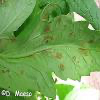Tomato mold leaf: (4, 12, 99, 95)
